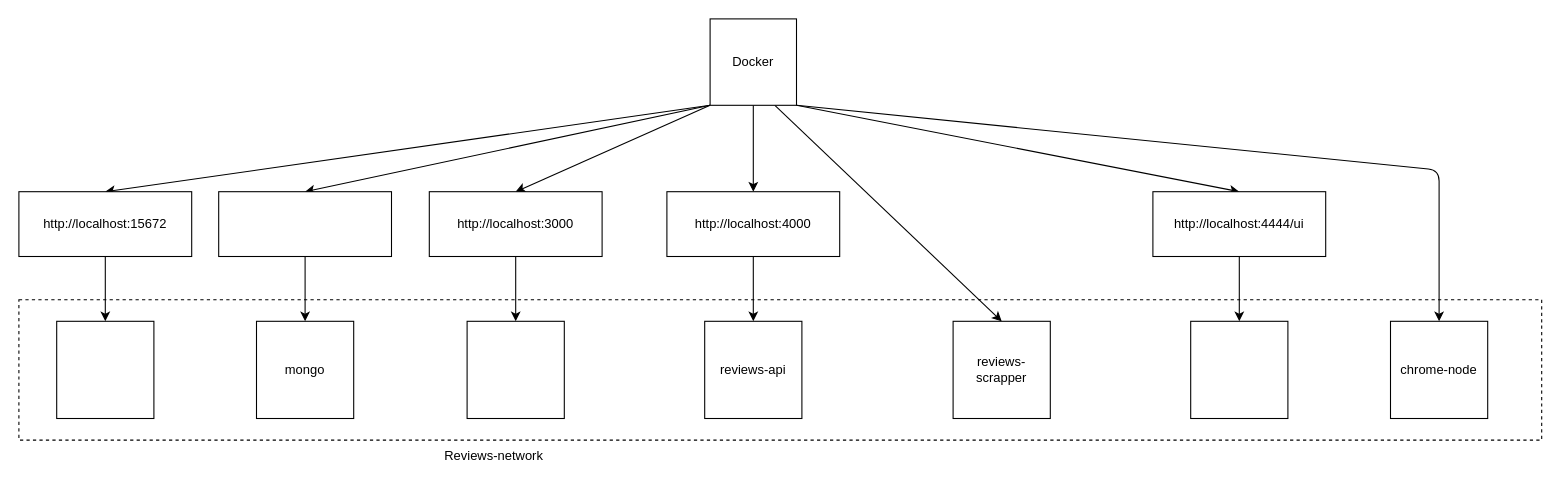
This 1561x491 diagram has some shape labels left out. The shapes that lost their labels are listed below. From the top down, each one's box as (x1, y1, x2, y2) in pixels, then its label:
(218, 191, 392, 256): http://localhost:27017
(56, 320, 154, 418): RabbitMQ
(466, 320, 564, 418): reviews-front
(1190, 320, 1288, 418): selenium-hub
